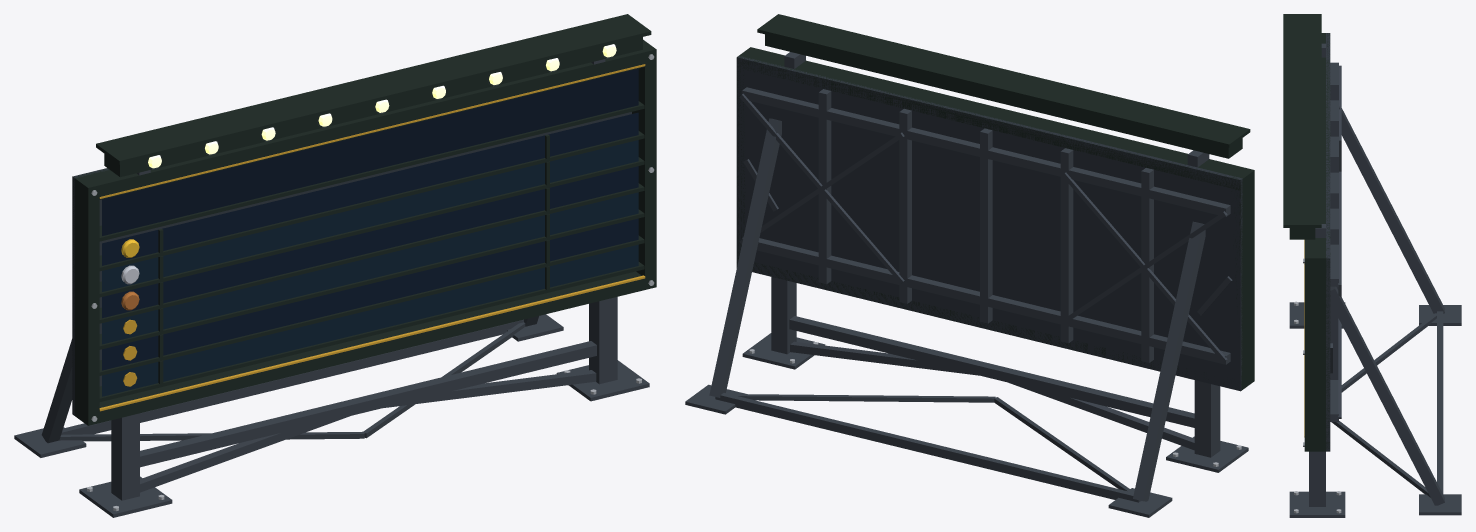
The model's file is leaderboard.glb.
3 views of the same model, side by side, from view 1: azimuth 30°, elevation 25°; view 2: azimuth 150°, elevation 25°; view 3: azimuth 270°, elevation 25° (orthographic). The views are drawn at different scales.
Parts seen in each view (by area): view 1: leaderboard_mesh; view 2: leaderboard_mesh; view 3: leaderboard_mesh.
Boxes of the visible parts, x1,y1,x2,y2 form: leaderboard_mesh: (14, 14, 656, 517); leaderboard_mesh: (685, 14, 1254, 517); leaderboard_mesh: (1283, 14, 1461, 517).
Size of the model in its own units: 5 by 3.02 by 1.67.
